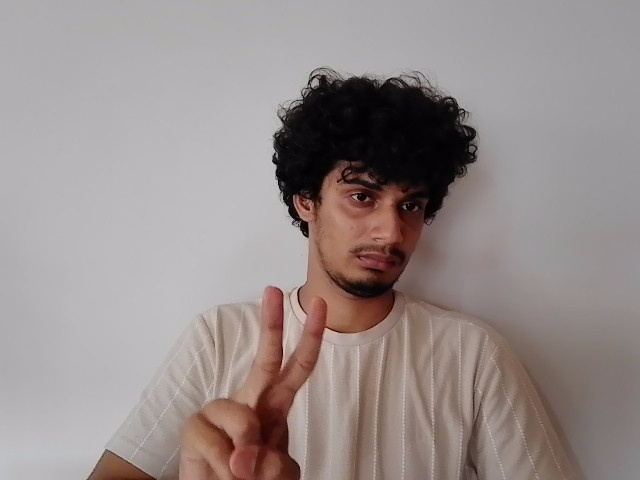travel: (180, 285, 331, 476)
